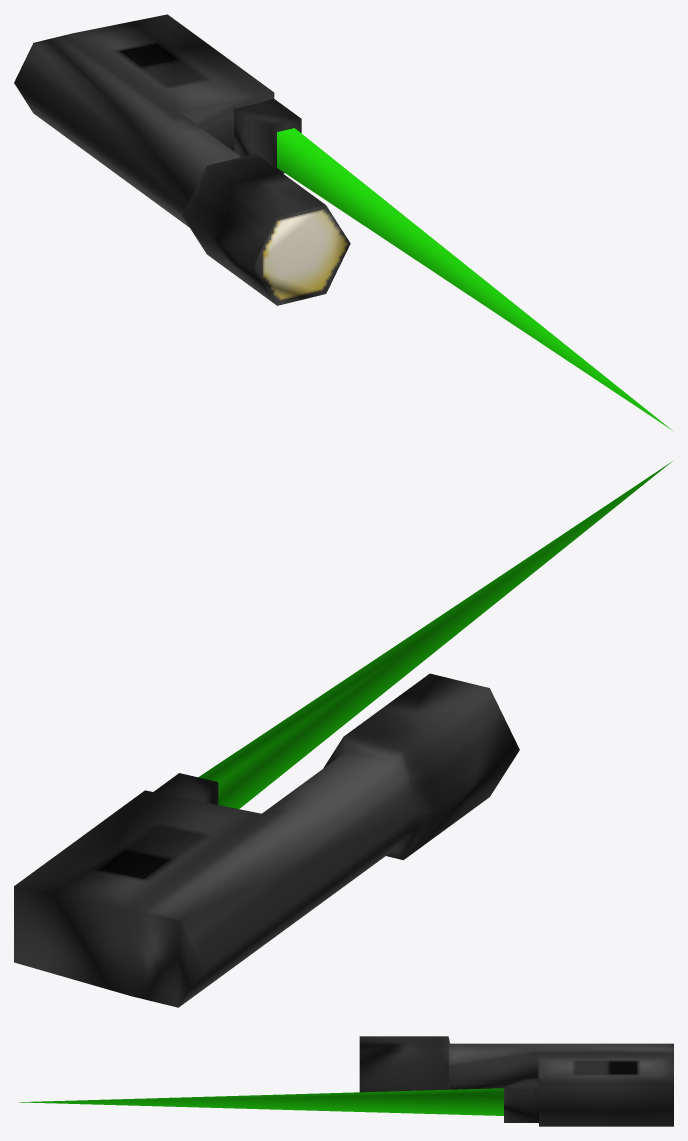
Rendered from Handgun03_Light2_Ground.fbx.
The picture shows the model from 3 angles, top to bottom: view 1: azimuth 30°, elevation 25°; view 2: azimuth 150°, elevation 25°; view 3: azimuth 270°, elevation 25°; orthographic projection. The views are drawn at different scales.
Visible parts, largest first — view 1: Handgun03_Light2.X_.0002; view 2: Handgun03_Light2.X_.0002; view 3: Handgun03_Light2.X_.0002.
Boxes of the visible parts, box(x1,y1,x2,y2) form: Handgun03_Light2.X_.0002: box(14, 14, 672, 430); Handgun03_Light2.X_.0002: box(14, 461, 672, 1007); Handgun03_Light2.X_.0002: box(19, 1036, 673, 1126).
Size of the model in its own units: 0.0389 by 0.0202 by 0.215.
